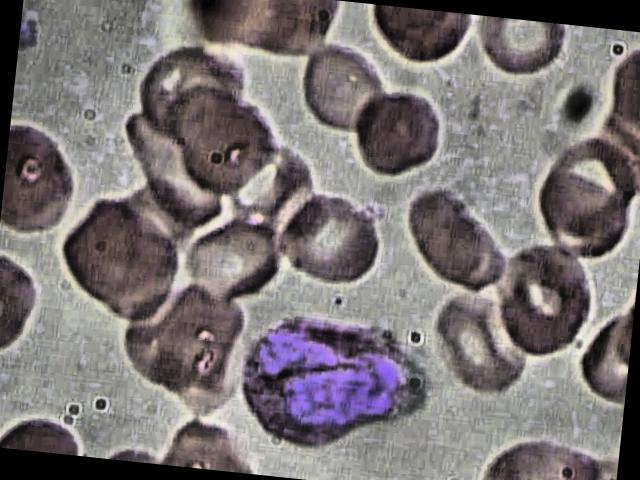Platelets: (20, 9, 48, 52)
RBC: (485, 238, 610, 366), (164, 83, 287, 206), (396, 179, 518, 299), (54, 190, 167, 314), (424, 273, 536, 397), (532, 121, 640, 245), (280, 177, 389, 294), (180, 203, 288, 306), (0, 122, 87, 240), (294, 39, 394, 135), (346, 86, 444, 178), (363, 5, 473, 73), (470, 16, 580, 84), (160, 414, 256, 474)
WBC: (226, 287, 430, 460)
